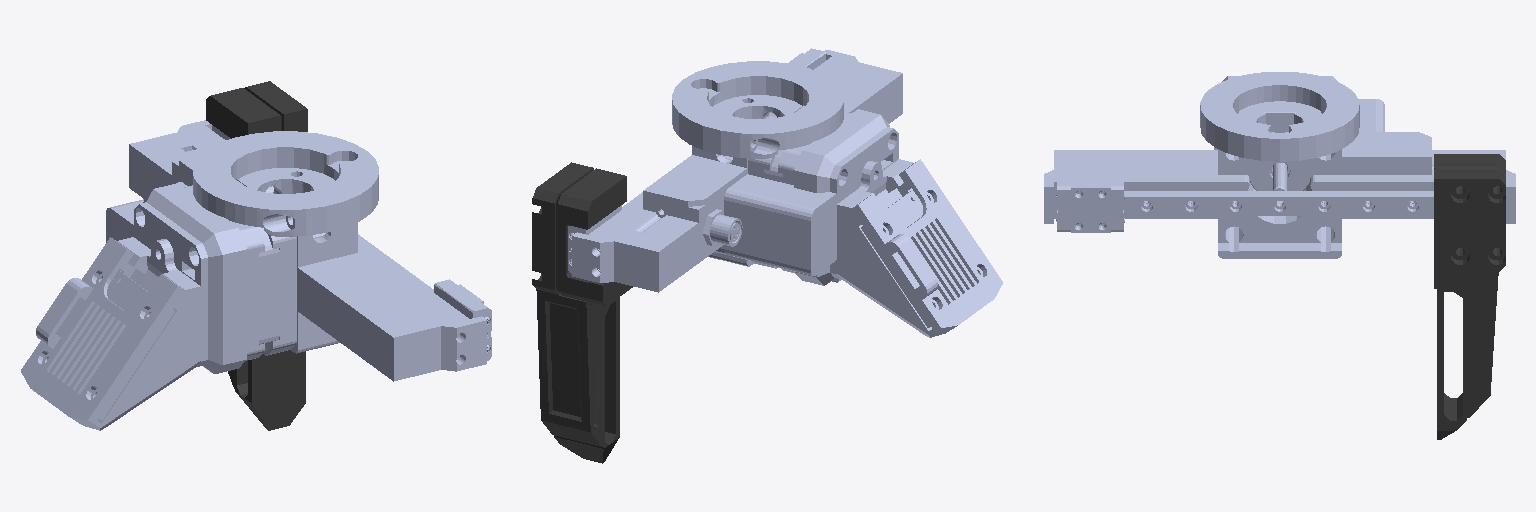
robot.urdf — msg_gripper:
<?xml version="1.0" encoding="utf-8"?>
<!-- MSG Gripper only  PAR6 robot arm links removed -->
<robot
  name="msg_gripper">
  <link
    name="gripper">
    <inertial>
      <origin
        xyz="-0.00642470048892474 0.000282668798476438 -0.0695192335056825"
        rpy="0 0 0" />
      <mass
        value="0.167623200457379" />
      <inertia
        ixx="0.000140871735417615"
        ixy="-9.82778432876683E-07"
        ixz="-2.72691487145471E-06"
        iyy="2.45392416247037E-05"
        iyz="-2.78909378823719E-07"
        izz="0.00013036472950858" />
    </inertial>
    <visual>
      <origin
        xyz="0 0 0"
        rpy="0 0 0" />
      <geometry>
        <mesh
          filename="package://msg_gripper/meshes/gripper.STL" />
      </geometry>
      <material
        name="">
        <color
          rgba="0.792156862745098 0.819607843137255 0.933333333333333 1" />
      </material>
    </visual>
    <collision>
      <origin
        xyz="0 0 0"
        rpy="0 0 0" />
      <geometry>
        <mesh
          filename="package://msg_gripper/meshes/gripper.STL" />
      </geometry>
    </collision>
  </link>
  <link
    name="jaw1">
    <inertial>
      <origin
        xyz="0.000317390129572659 -0.0636011550113124 -0.0505219142777576"
        rpy="0 0 0" />
      <mass
        value="0.0267240448883812" />
      <inertia
        ixx="1.05776518737304E-05"
        ixy="4.17466317108795E-08"
        ixz="-4.94412707881078E-07"
        iyy="1.02820791329259E-05"
        iyz="5.30501392593403E-07"
        izz="1.56447936575552E-06" />
    </inertial>
    <visual>
      <origin
        xyz="0 0 0"
        rpy="0 0 0" />
      <geometry>
        <mesh
          filename="package://msg_gripper/meshes/jaw1.STL" />
      </geometry>
      <material
        name="">
        <color
          rgba="0.29804 0.29804 0.29804 1" />
      </material>
    </visual>
    <collision>
      <origin
        xyz="0 0 0"
        rpy="0 0 0" />
      <geometry>
        <mesh
          filename="package://msg_gripper/meshes/jaw1.STL" />
      </geometry>
    </collision>
  </link>
  <joint
    name="joint_jaw1"
    type="prismatic">
    <origin
      xyz="0.02835 0 -0.1409"
      rpy="-3.1416 0 3.1416" />
    <parent
      link="gripper" />
    <child
      link="jaw1" />
    <axis
      xyz="0 -1 0" />
    <limit
      lower="-0.052"
      upper="0"
      effort="20"
      velocity="0.1" />
  </joint>
  <link
    name="jaw2">
    <inertial>
      <origin
        xyz="0.000313277058697659 0.0636017321420815 -0.0494862901594326"
        rpy="0 0 0" />
      <mass
        value="0.0267245850480152" />
      <inertia
        ixx="1.05767573086608E-05"
        ixy="-4.18351972636844E-08"
        ixz="-7.32706121136976E-07"
        iyy="1.02816308296904E-05"
        iyz="-5.3239570329707E-07"
        izz="1.56361148863754E-06" />
    </inertial>
    <visual>
      <origin
        xyz="0 0 0"
        rpy="0 0 0" />
      <geometry>
        <mesh
          filename="package://msg_gripper/meshes/jaw2.STL" />
      </geometry>
      <material
        name="">
        <color
          rgba="0.29804 0.29804 0.29804 1" />
      </material>
    </visual>
    <collision>
      <origin
        xyz="0 0 0"
        rpy="0 0 0" />
      <geometry>
        <mesh
          filename="package://msg_gripper/meshes/jaw2.STL" />
      </geometry>
    </collision>
  </link>
  <joint
    name="joint_jaw2" type="prismatic">
    <mimic joint="joint_jaw1" multiplier="-1" offset="0"/>
    <origin
      xyz="0.02835 0 -0.1409"
      rpy="-3.1416 0 3.1416" />
    <parent
      link="gripper" />
    <child
      link="jaw2" />
    <axis
      xyz="0 -1 0" />
    <limit
      lower="0"
      upper="0.052"
      effort="20"
      velocity="0.1" />
  </joint>

  <transmission name="jaw_transmission">
    <type>transmission_interface/SimpleTransmission</type>
    <joint name="joint_jaw1">
      <hardwareInterface>PositionJointInterface</hardwareInterface>
    </joint>
    <actuator name="jaw_motor">
      <hardwareInterface>PositionJointInterface</hardwareInterface>
      <mechanicalReduction>1</mechanicalReduction>
    </actuator>
  </transmission>

</robot>

--- Facts derived from the render (not from the file) ---
3 views of the same robot in one strip: view 1: azimuth 30°, elevation 25°; view 2: azimuth 150°, elevation 25°; view 3: azimuth 270°, elevation 25° (orthographic).
Robot: msg_gripper — 3 links, 2 joints (2 prismatic); root link gripper; default pose: every joint at zero.
Visible links, largest first — view 1: gripper, jaw2; view 2: gripper, jaw2; view 3: gripper, jaw2.
Boxes of the visible links, <box> form: gripper: <box>21,120,491,430</box>; jaw2: <box>206,81,307,430</box>; gripper: <box>568,48,1002,337</box>; jaw2: <box>532,162,632,463</box>; gripper: <box>1044,72,1515,258</box>; jaw2: <box>1434,154,1505,439</box>.
Bounding box of the posed robot: 0.1163 × 0.1594 × 0.1103 m (x, y, z).
2 mesh visuals loaded from 3 distinct referenced files (2 binary STL); not drawn: 1 (reference not matched to a file when rendering).
